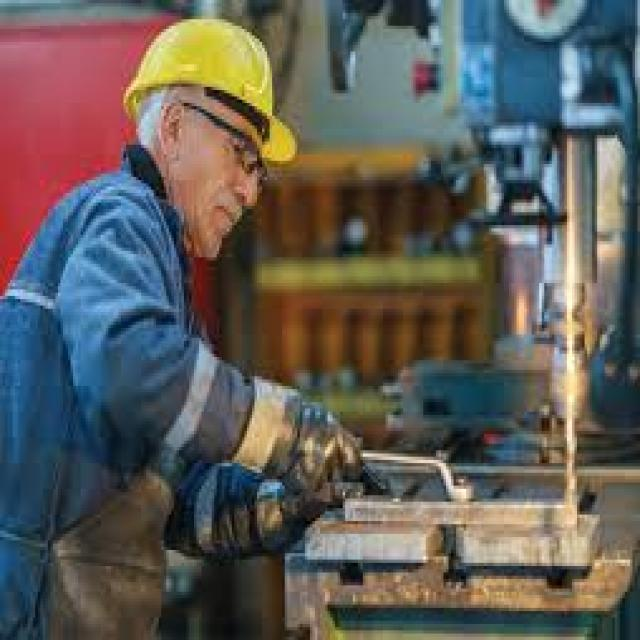Safety-Helmet: (121, 10, 305, 167)
